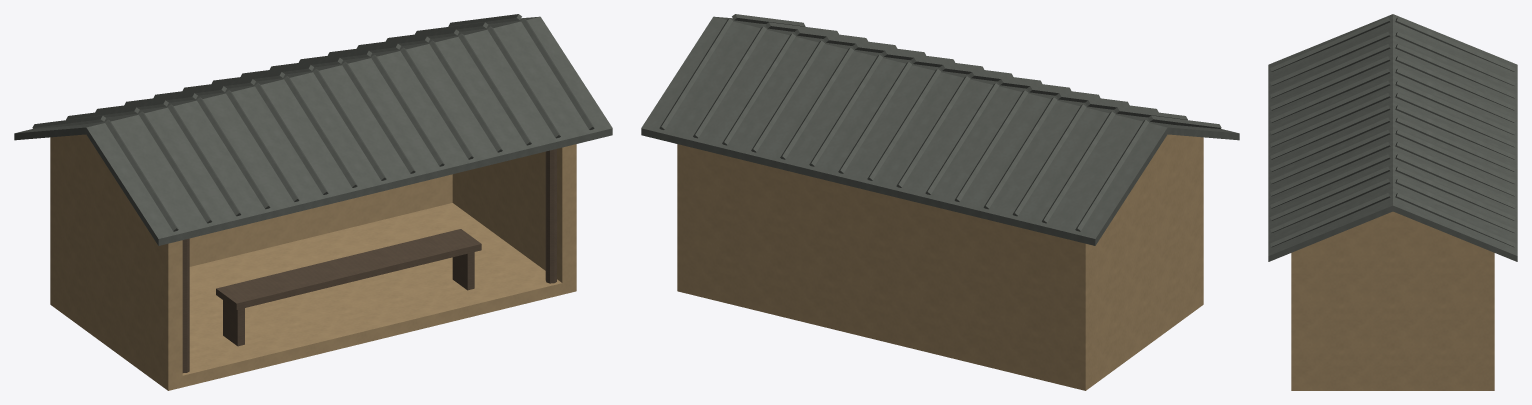
3 views of the same model, side by side, from view 1: azimuth 30°, elevation 25°; view 2: azimuth 150°, elevation 25°; view 3: azimuth 270°, elevation 25° (orthographic). The views are drawn at different scales.
Visible parts, largest first — view 1: S84-static-LY_P01_earth__PBR, S84-static-LY_P01_tile__PBR, S84-static-LY_P01_timber__PBR; view 2: S84-static-LY_P01_earth__PBR, S84-static-LY_P01_tile__PBR; view 3: S84-static-LY_P01_tile__PBR, S84-static-LY_P01_earth__PBR.
Part boxes in pixels (x1,y1,x2,y2): S84-static-LY_P01_earth__PBR: (50, 134, 576, 390); S84-static-LY_P01_tile__PBR: (14, 14, 612, 245); S84-static-LY_P01_timber__PBR: (182, 149, 556, 372); S84-static-LY_P01_earth__PBR: (677, 134, 1203, 390); S84-static-LY_P01_tile__PBR: (641, 14, 1239, 245); S84-static-LY_P01_tile__PBR: (1268, 14, 1517, 261); S84-static-LY_P01_earth__PBR: (1291, 211, 1494, 390).
Bounding box in the file's own units: 8.9 × 4.33 × 4.9.
Materials: 3 (3 with a texture image).
